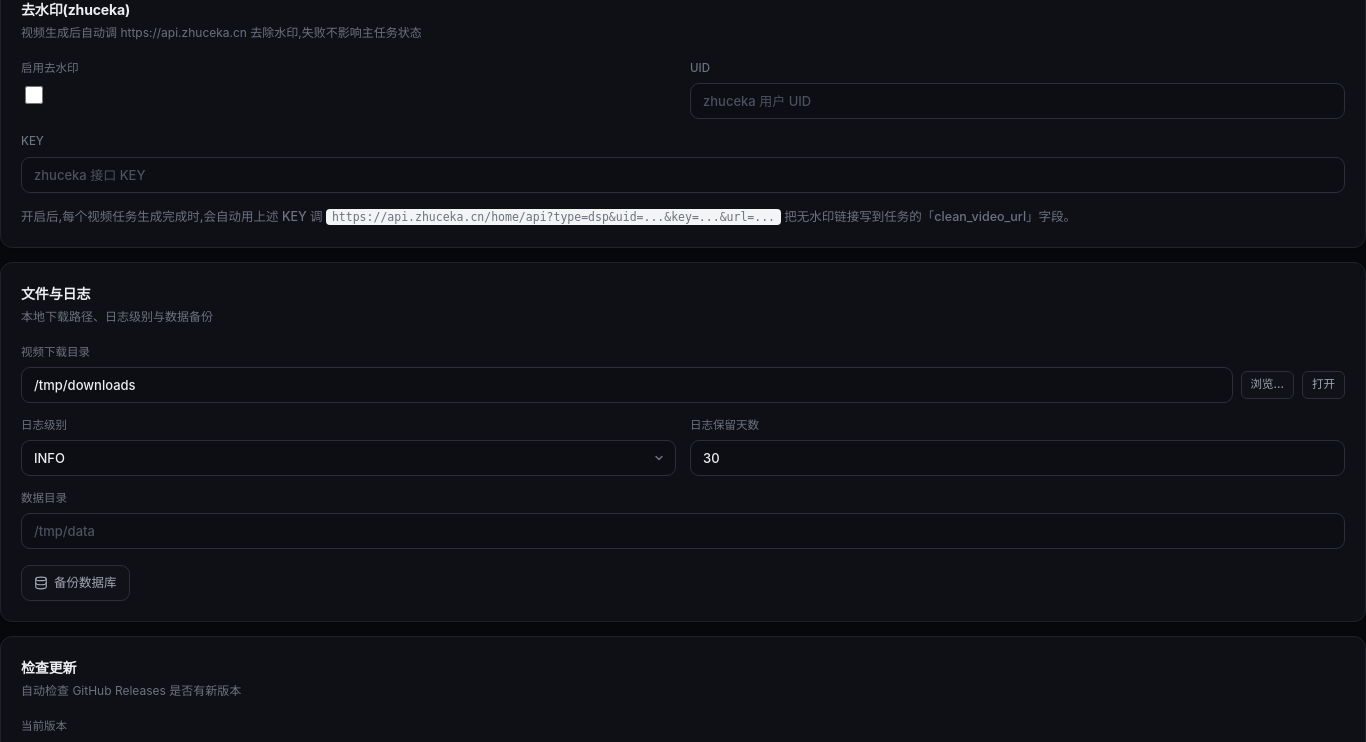
browses for a download directory and updates the input without saving
The image size is (1366, 742).
(page scrolled)
Expected: the field labelled "视频下载目录" holds "/tmp/downloads", [21,367,1232,403]
Click the button "浏览...": (1267, 385) [1240,371,1294,399]
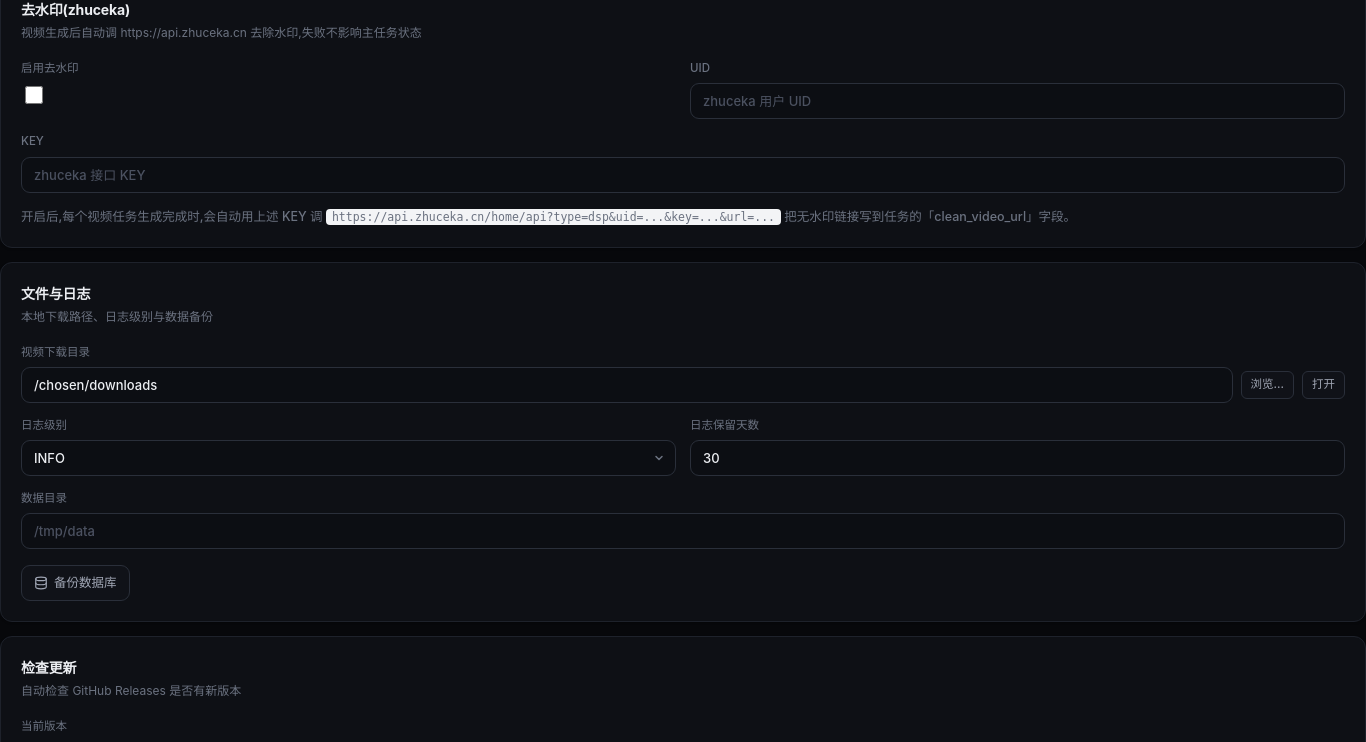
Now the field labelled "视频下载目录" holds "/chosen/downloads", box [21,367,1232,403]
